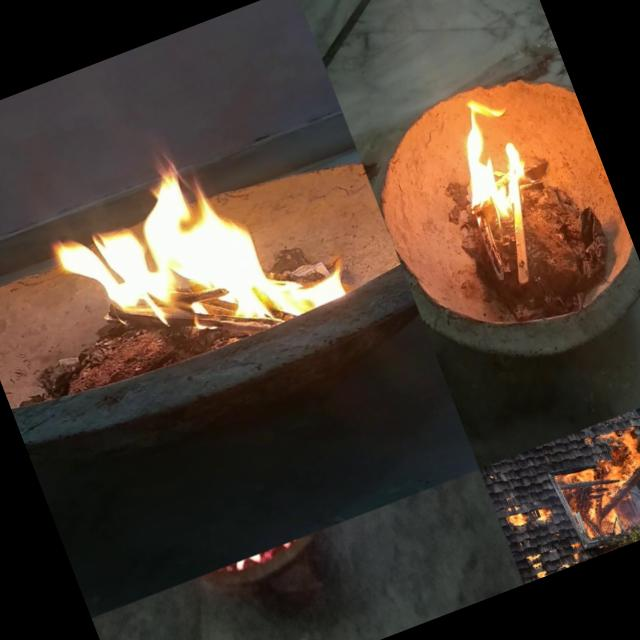fire: (21, 96, 360, 400), (416, 74, 555, 244), (553, 454, 625, 544), (591, 419, 640, 527), (532, 501, 558, 530), (504, 504, 530, 532), (524, 552, 548, 580), (604, 542, 628, 553), (555, 560, 571, 572), (570, 539, 582, 551), (570, 550, 582, 561)
